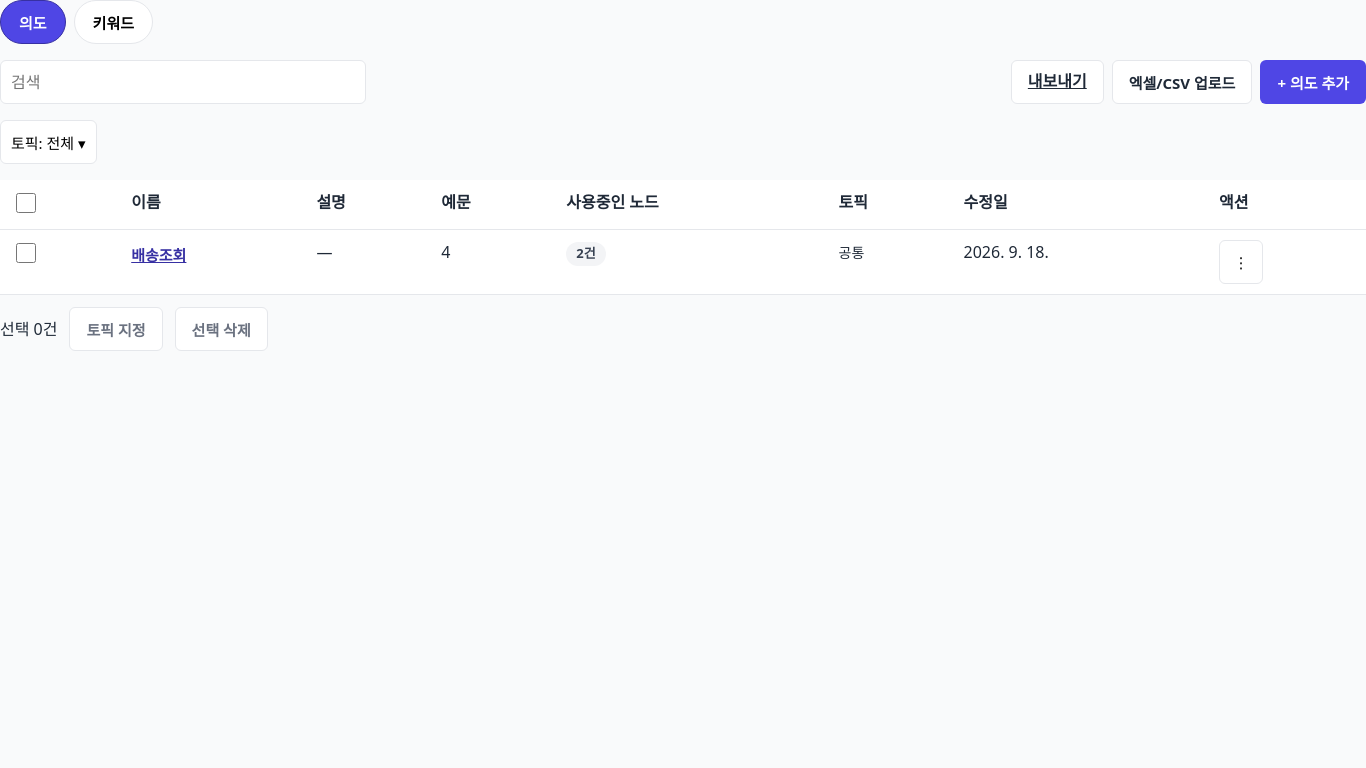
Test case: IntentsKeywordsPage — 의도/키워드 CRUD › 참조가 없는 의도 삭제는 성공 토스트와 함께 목록이 재조회된다
The image size is (1366, 768).
Expected: the button "배송조회" is shown, [131,240,186,269]
What coordinates should you click on to do the following:
click the button named "배송조회 관리"
I would click on:
 (1241, 262)
Its box is [1219,240,1263,284].
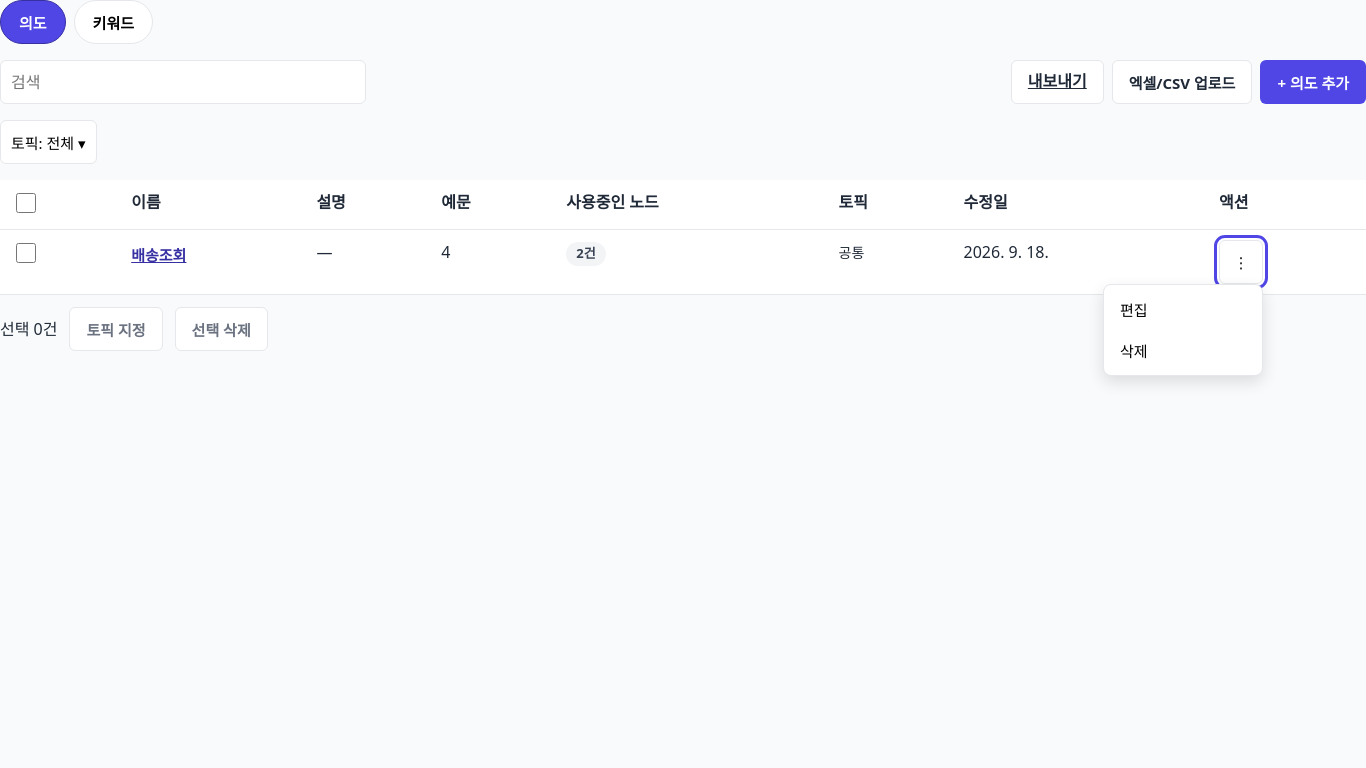
What coordinates should you click on to do the following:
click the menu item "삭제"
I would click on:
 (1183, 350)
Its box is [1108,330,1258,371].
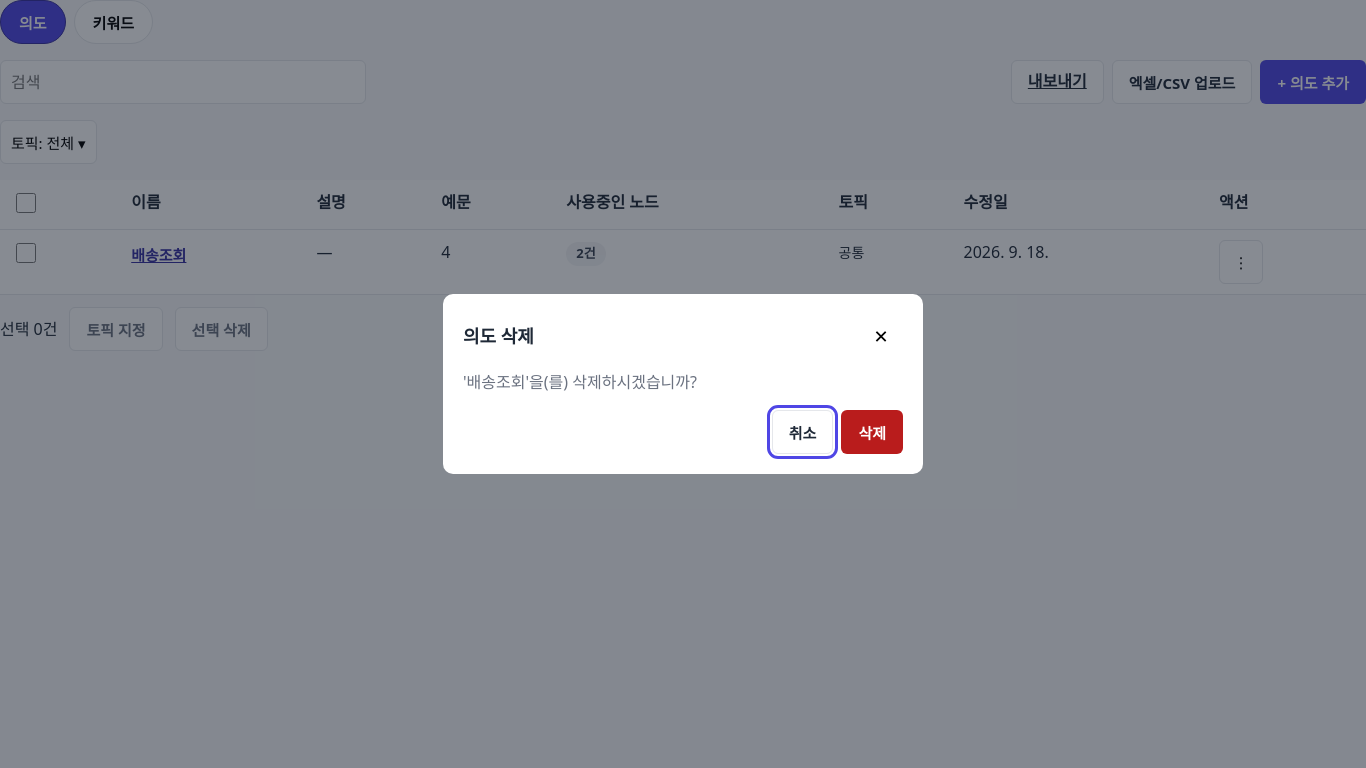
Expected: the dialog "의도 삭제" is shown, [443,294,923,474]
What coordinates should you click on to do the following:
click the button "삭제"
I would click on:
 (872, 432)
Its box is [841,410,903,454].
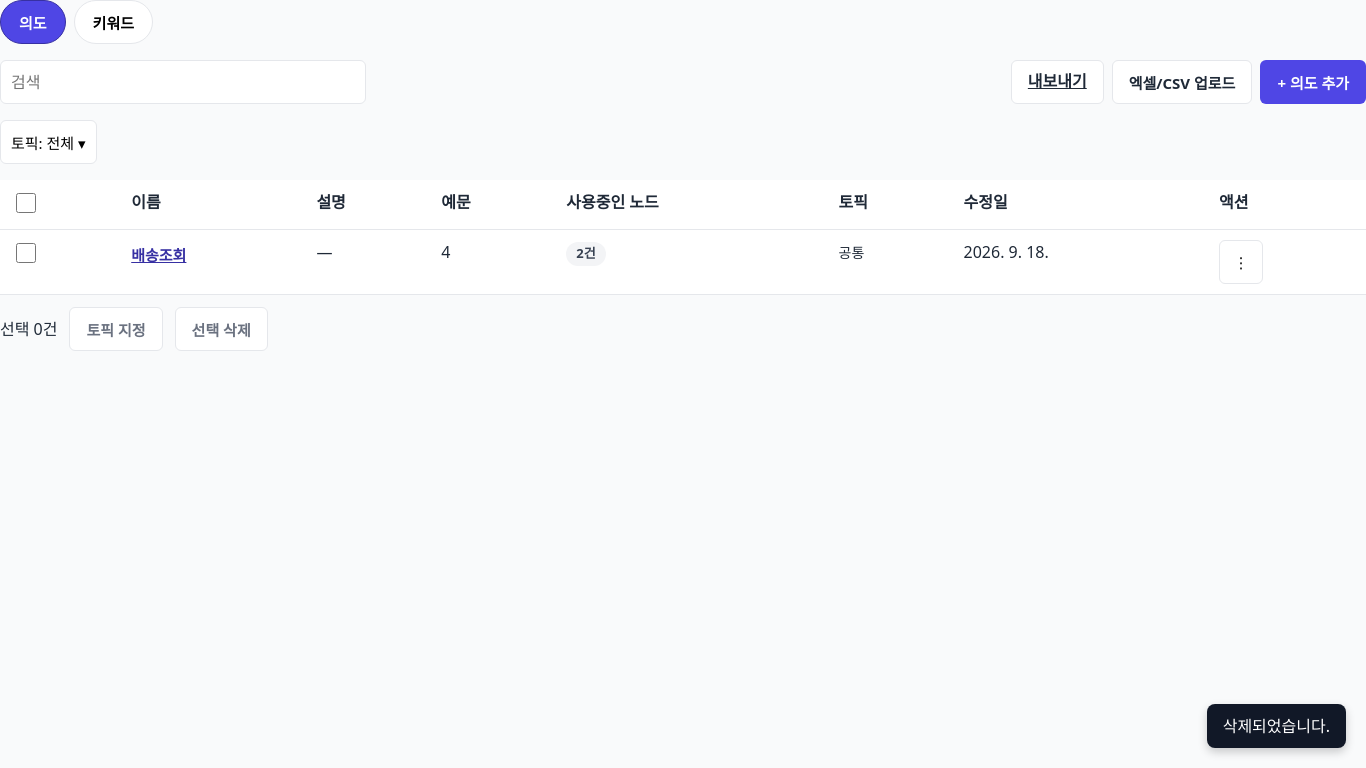
Expected: the text "삭제되었습니다." is shown, [1207,704,1346,748]
